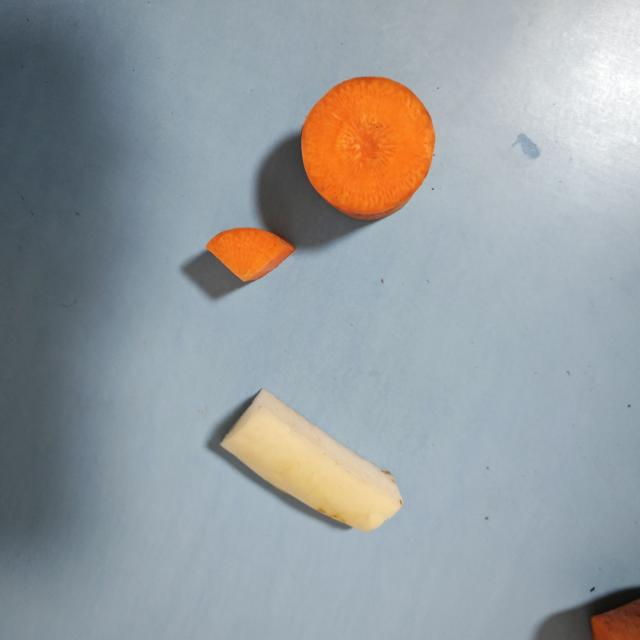-Kitchen waste - carrot-: (294, 69, 439, 219), (204, 218, 298, 292)
-Kitchen waste - white radish-: (217, 377, 405, 541)
